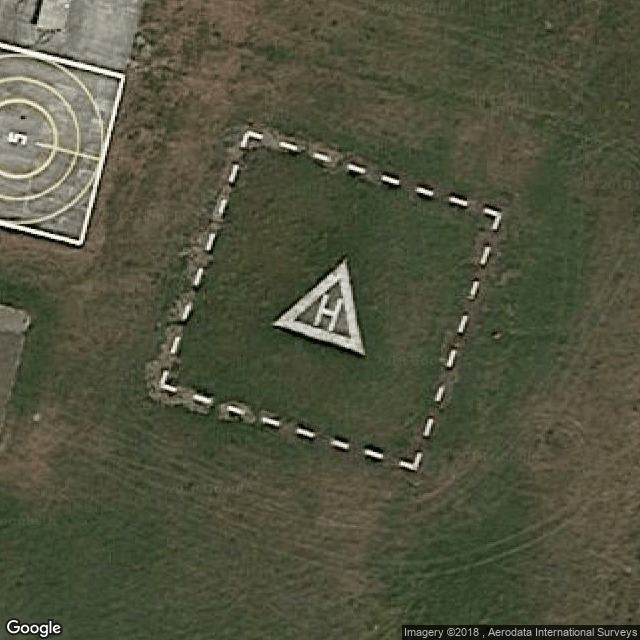heliport: (313, 289, 344, 335)
